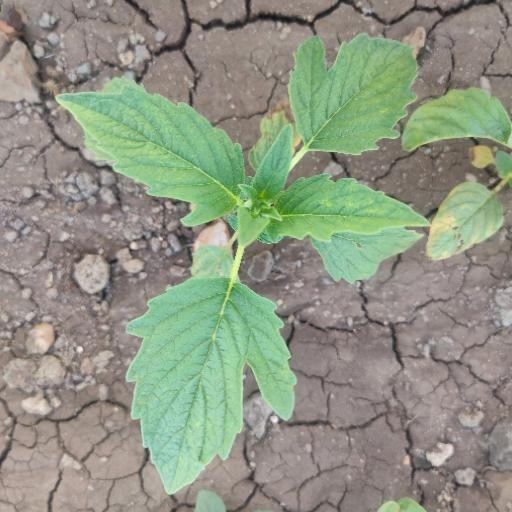crop: (50, 28, 440, 512)
